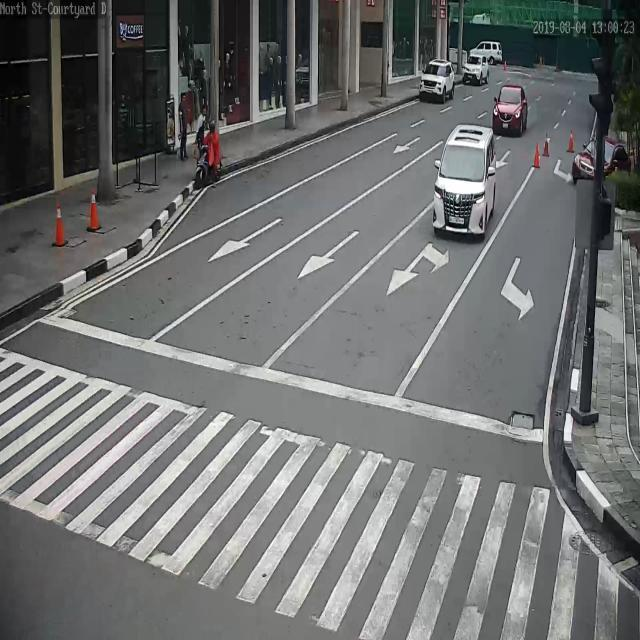car: (572, 134, 633, 181), (493, 84, 531, 137), (420, 60, 457, 103), (461, 54, 488, 87), (469, 41, 504, 65)
jeepney: (198, 121, 224, 191)
van: (433, 123, 496, 237)
